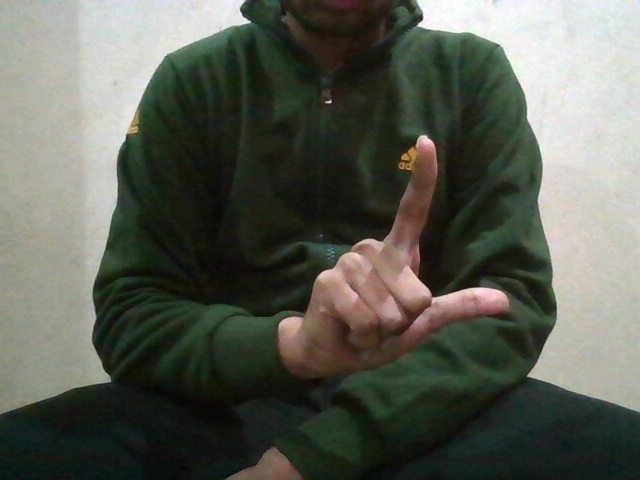L: (301, 135, 516, 368)
